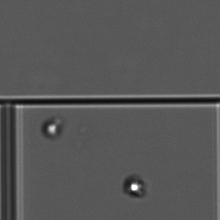Living Cell: (121, 173, 149, 198), (42, 116, 65, 139)
